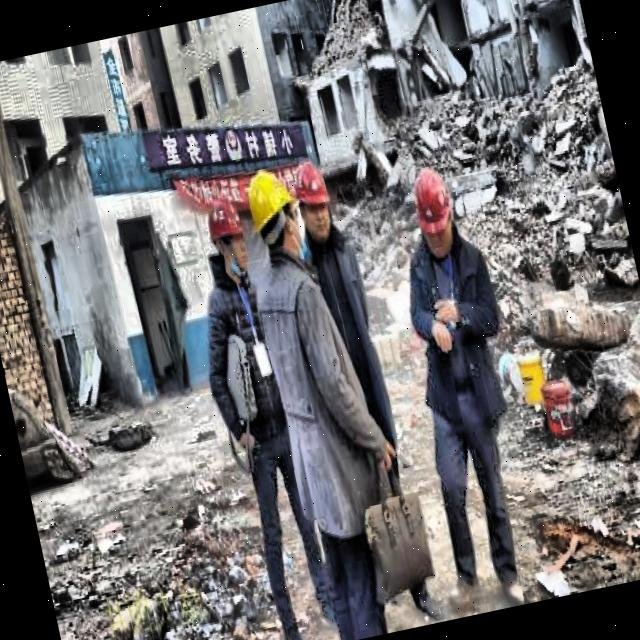helmet: (242, 162, 308, 266), (410, 163, 464, 260), (202, 189, 255, 282), (290, 158, 342, 246)
